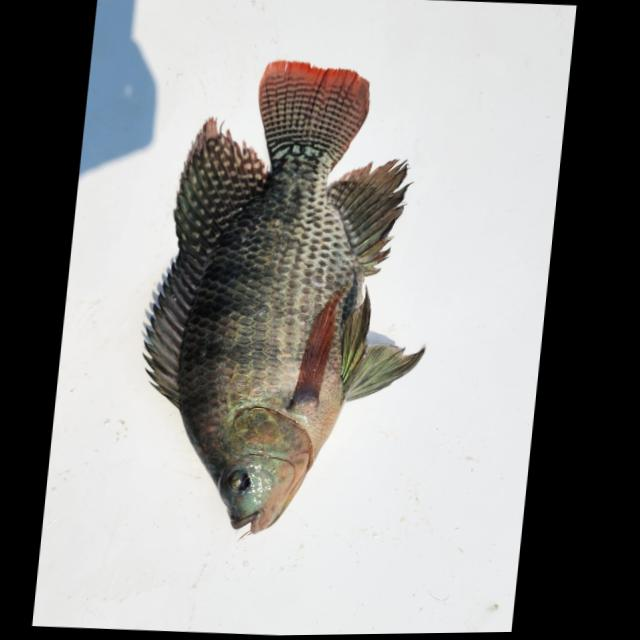Tilapia: (121, 50, 458, 541)
